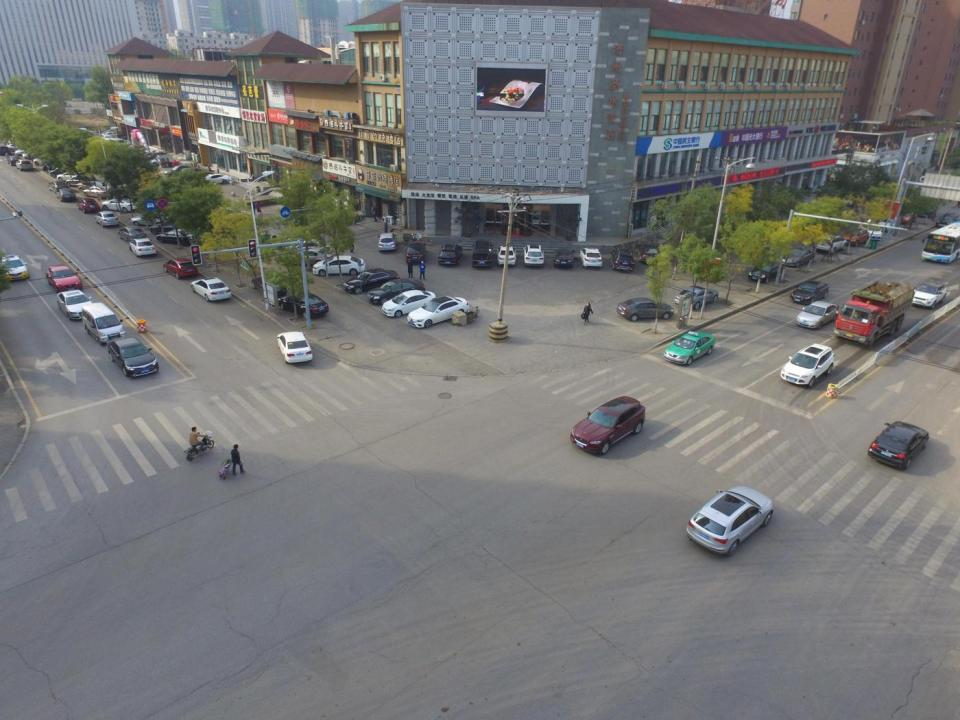bus: (920, 218, 960, 268)
car: (686, 484, 776, 559), (566, 397, 646, 456), (867, 420, 928, 473), (779, 343, 834, 391), (106, 337, 160, 378), (407, 296, 469, 329), (663, 329, 716, 366), (379, 289, 435, 319), (369, 278, 424, 308), (795, 300, 842, 330), (344, 268, 397, 294), (279, 291, 328, 319), (310, 254, 363, 279), (616, 298, 676, 320), (281, 235, 327, 261), (279, 330, 311, 365), (44, 266, 81, 296), (910, 280, 948, 309), (57, 291, 92, 321), (675, 285, 718, 309), (190, 278, 232, 302), (791, 280, 831, 304), (251, 274, 289, 298), (156, 227, 204, 246), (287, 248, 332, 268), (0, 253, 29, 284), (749, 260, 786, 282), (163, 258, 198, 280), (780, 246, 814, 267), (611, 246, 637, 272), (840, 225, 870, 246), (472, 239, 492, 270), (814, 234, 848, 252), (580, 246, 605, 270), (438, 243, 463, 267), (129, 238, 157, 259), (118, 226, 146, 246), (103, 198, 140, 213), (149, 222, 186, 237), (130, 214, 172, 227), (862, 216, 885, 239), (404, 241, 426, 264), (554, 246, 574, 271), (95, 210, 119, 230), (83, 186, 114, 201), (524, 242, 542, 267), (934, 211, 960, 228), (879, 212, 900, 232), (198, 174, 230, 187), (79, 197, 102, 214), (497, 246, 516, 266), (34, 152, 59, 167), (640, 244, 659, 263), (164, 166, 194, 178), (898, 206, 918, 224), (55, 188, 77, 204), (78, 182, 105, 195), (50, 166, 78, 178), (57, 170, 86, 181), (380, 231, 395, 252), (42, 159, 66, 172), (66, 175, 94, 186), (150, 156, 175, 168), (48, 181, 70, 193), (22, 146, 42, 159), (16, 158, 33, 171), (15, 144, 33, 156), (6, 155, 21, 167), (6, 144, 26, 152), (111, 137, 124, 149), (102, 131, 120, 139), (102, 134, 115, 145), (0, 144, 10, 155)
truck: (833, 280, 914, 344)
van: (81, 302, 126, 346)
